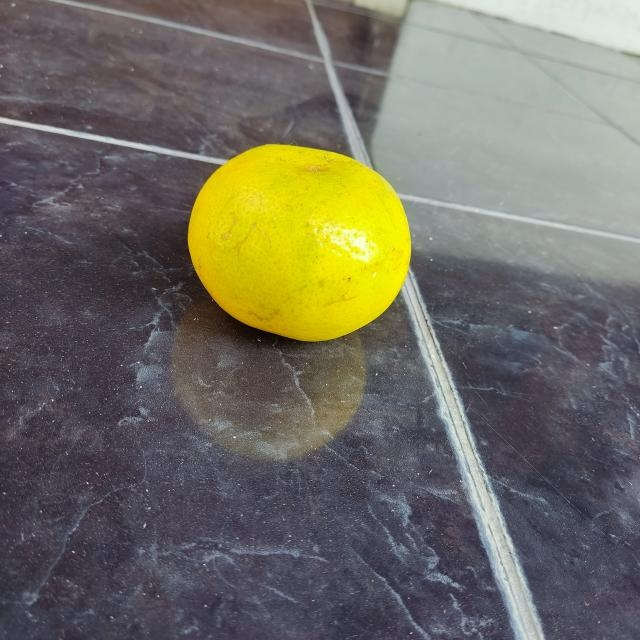agrume: (182, 138, 414, 346)
